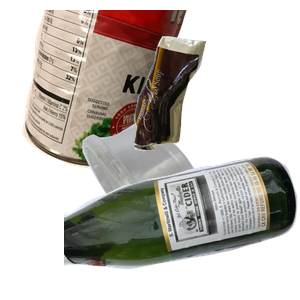glass: (64, 154, 300, 300)
metal: (20, 10, 199, 172)
plastic: (80, 120, 289, 300)
trash: (131, 34, 300, 177)
